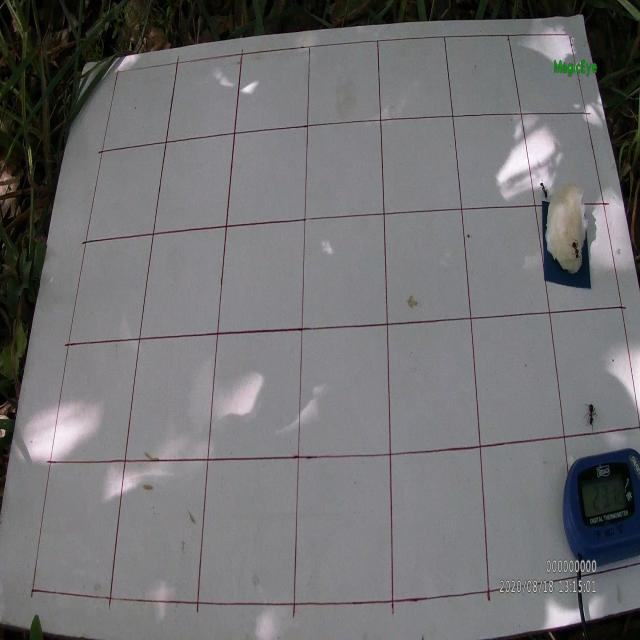Ant: (584, 402, 598, 434), (566, 234, 581, 260), (537, 178, 551, 201)
